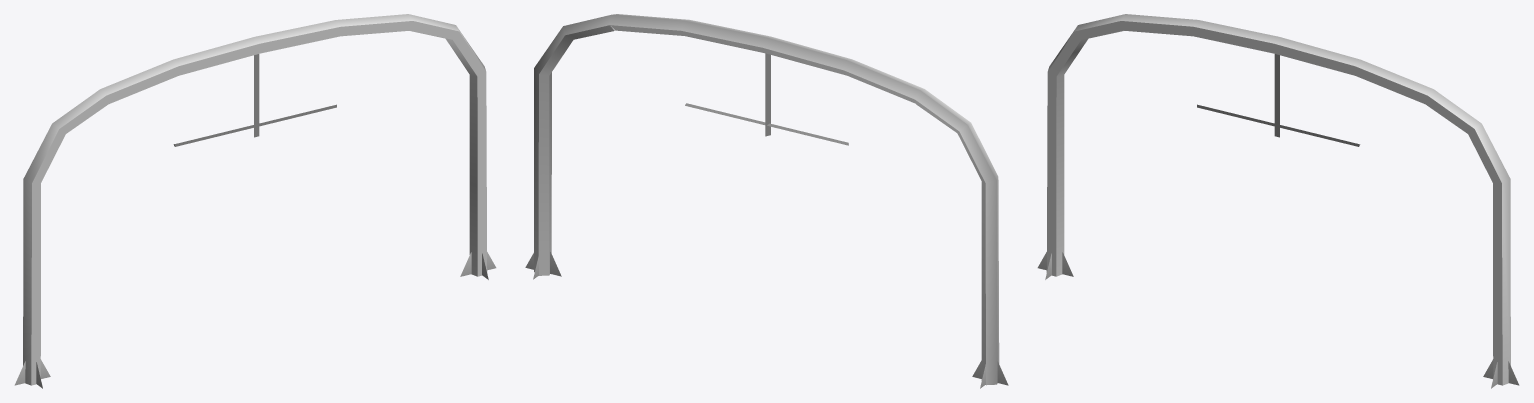
The model's file is KASENCHU_NEYA.glb.
3 renders of one model, left to right at view 1: azimuth 30°, elevation 25°; view 2: azimuth 150°, elevation 25°; view 3: azimuth 330°, elevation 25°, orthographic.
Parts seen in each view (by area): view 1: obj3; view 2: obj3; view 3: obj3.
Boxes of the visible parts, <box> form: obj3: <box>14,14,496,388</box>; obj3: <box>525,14,1008,388</box>; obj3: <box>1037,14,1519,388</box>.
Size of the model in its own units: 29.77 by 17.09 by 2.25.
Materials: 2 (2 with a texture image).
